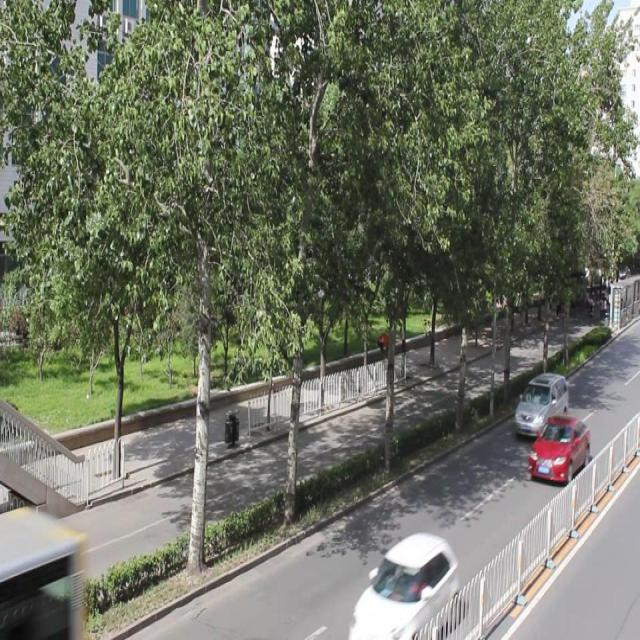car: (348, 531, 457, 640), (526, 415, 589, 482), (511, 370, 567, 438)
